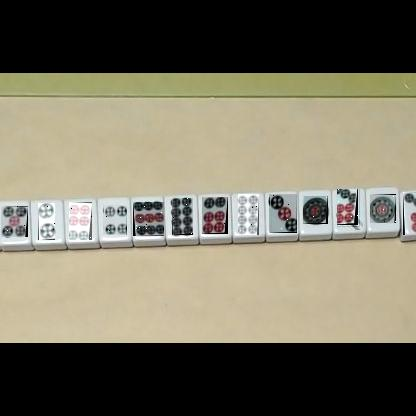1p: (370, 194, 396, 223), (303, 196, 328, 224)
2p: (38, 203, 55, 240)
3p: (269, 194, 297, 233)
4p: (103, 204, 127, 235)
5p: (1, 206, 28, 237)
6p: (202, 197, 228, 234), (69, 202, 92, 240)
7p: (338, 190, 363, 230), (403, 192, 416, 235)
8p: (238, 194, 259, 235), (172, 198, 193, 235)
9p: (133, 202, 164, 236)
